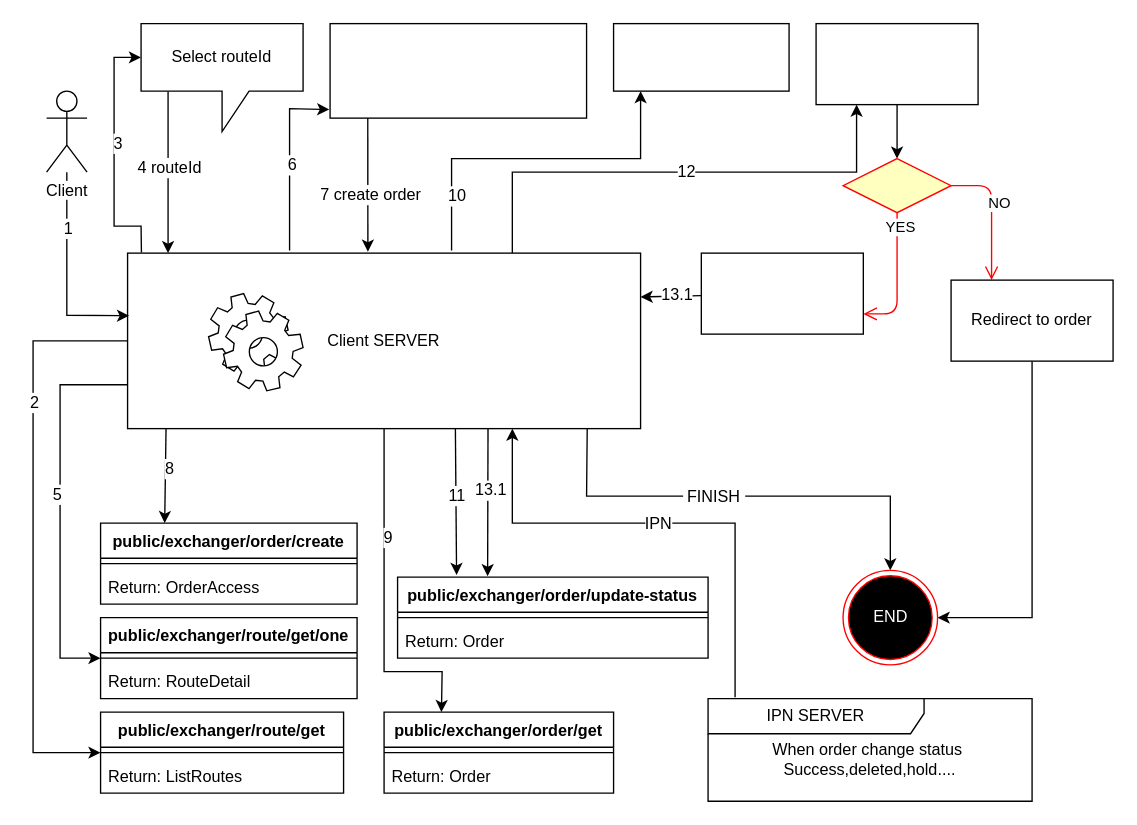
Image size: 1137x825. Some labels were removed from this diagram. Each missing label, with the centre of its shape:
"Enter order data Enter exchange fields from.fields, to.fields, fields,amount.." belongs at point 458,70.
"Manual" belongs at point 896,185.
"Payorder" belongs at point 781,293.
"Show Order (optional)" belongs at point 700,56.
"Show payment data" belongs at point 896,63.
